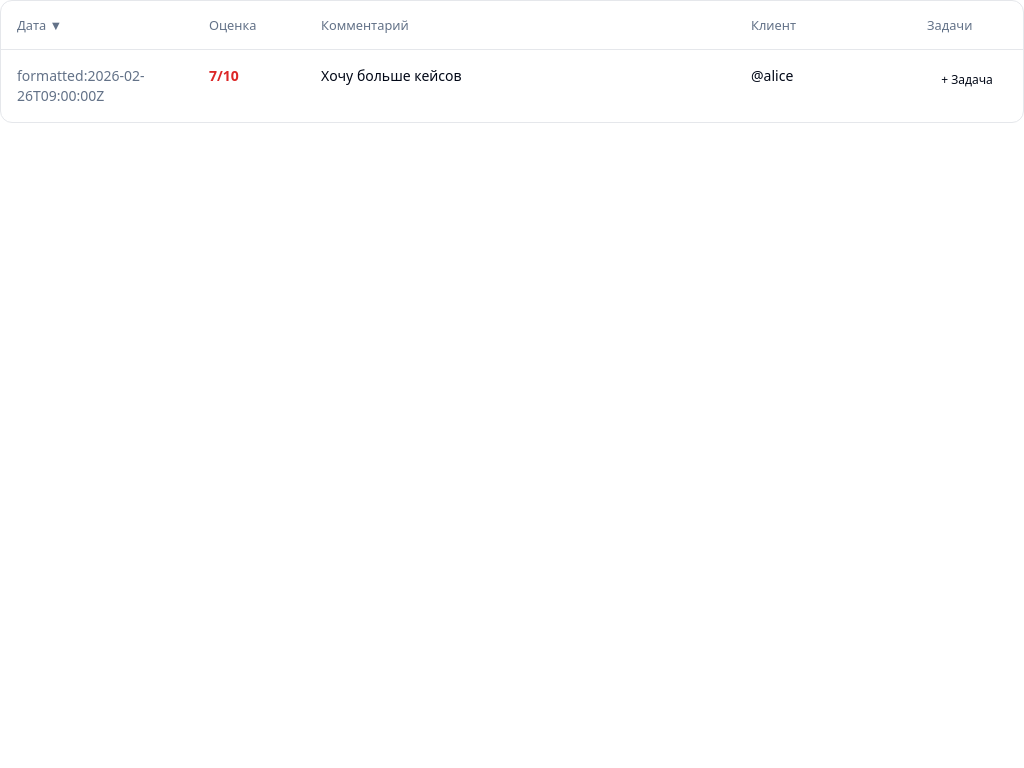
Test: ScheduleTasksView › creates operator task from row button and opens modal
Click the button "+ Задача".
click(967, 80)  # box [927,66,1007,94]
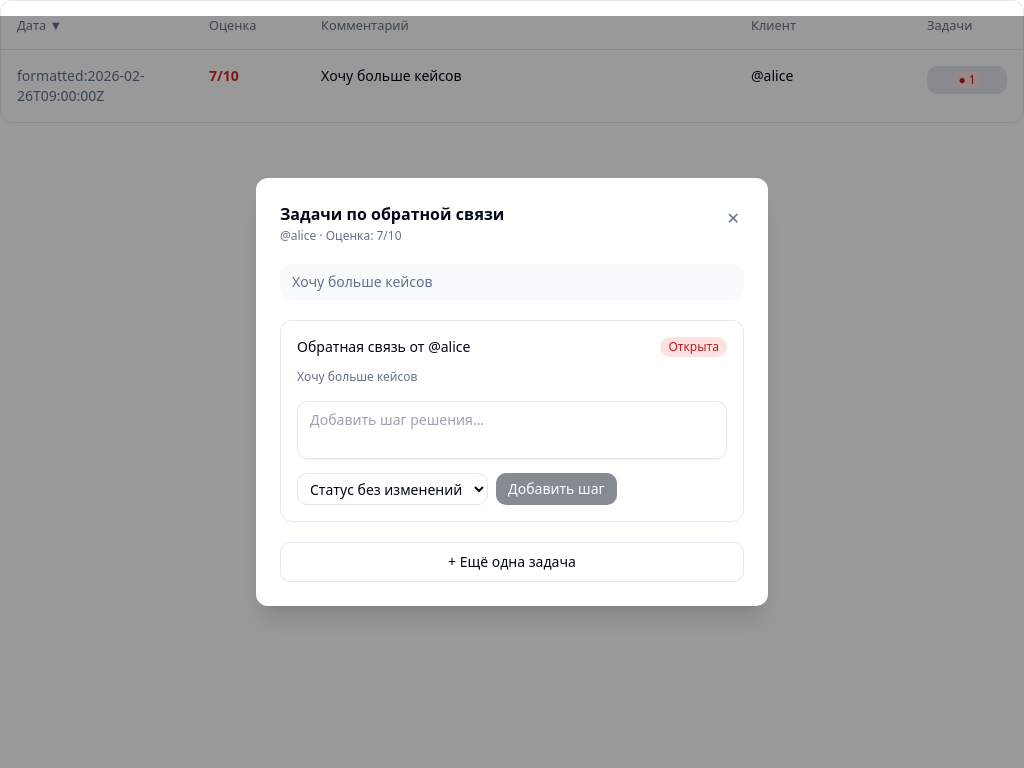
Now the text "Задачи по обратной связи" is shown, box [280,202,504,226]
Now the text "Обратная связь от @alice" is shown, box [297,337,470,357]
